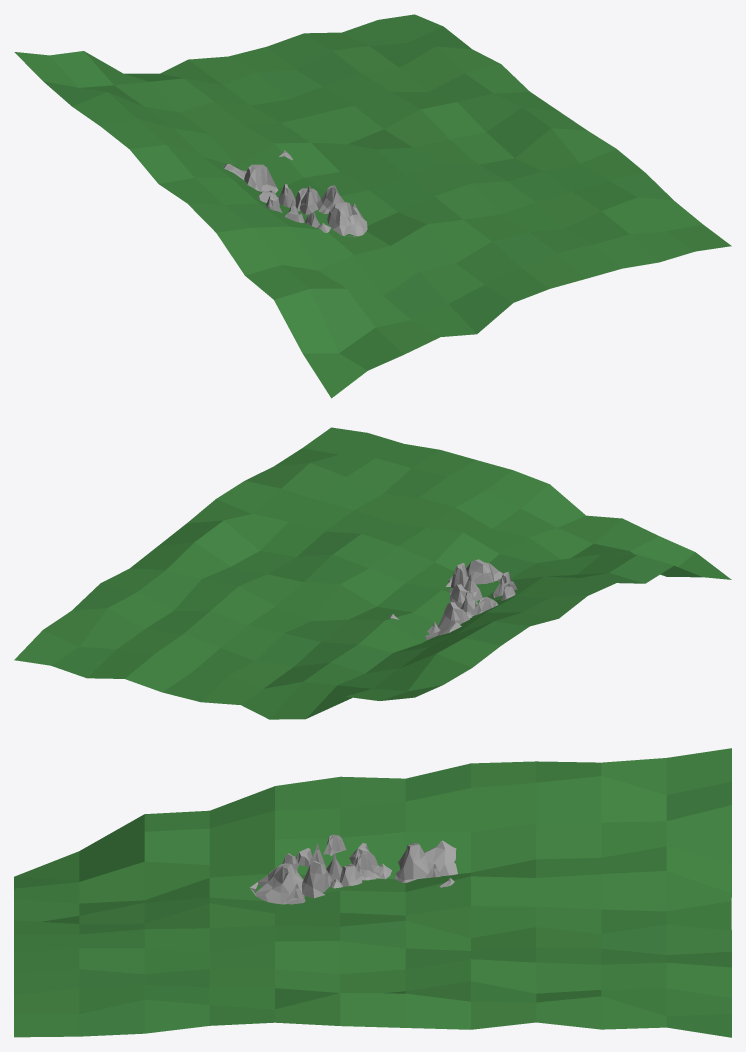
File: distantTerrain.glb
3 renders of one model, top to bottom at view 1: azimuth 30°, elevation 25°; view 2: azimuth 150°, elevation 25°; view 3: azimuth 270°, elevation 25°, orthographic. The views are drawn at different scales.
Visible parts, largest first — view 1: Plane, Plane.012; view 2: Plane, Plane.012; view 3: Plane, Plane.012.
Part boxes in pixels (bbox=[...]): Plane: bbox=[14, 14, 731, 398]; Plane.012: bbox=[223, 150, 367, 237]; Plane: bbox=[14, 427, 731, 719]; Plane.012: bbox=[388, 559, 517, 640]; Plane: bbox=[14, 748, 731, 1037]; Plane.012: bbox=[250, 834, 457, 904].
Size of the model in its own units: 105 by 28.64 by 144.
